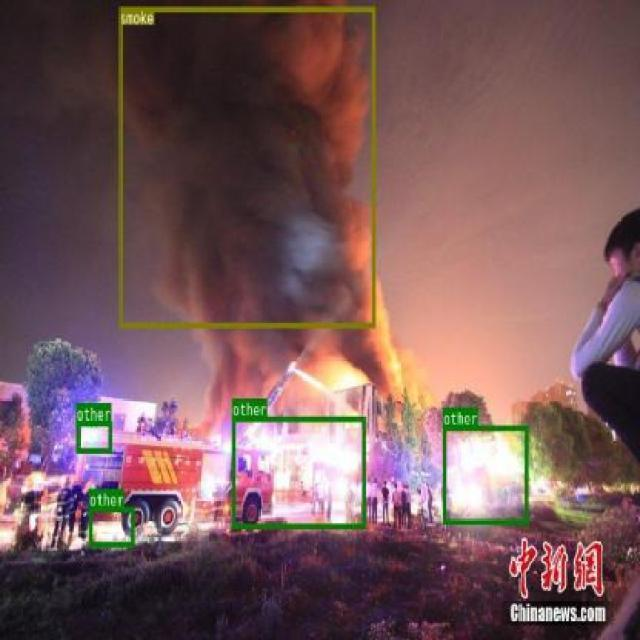Smoke: (119, 6, 375, 326)
